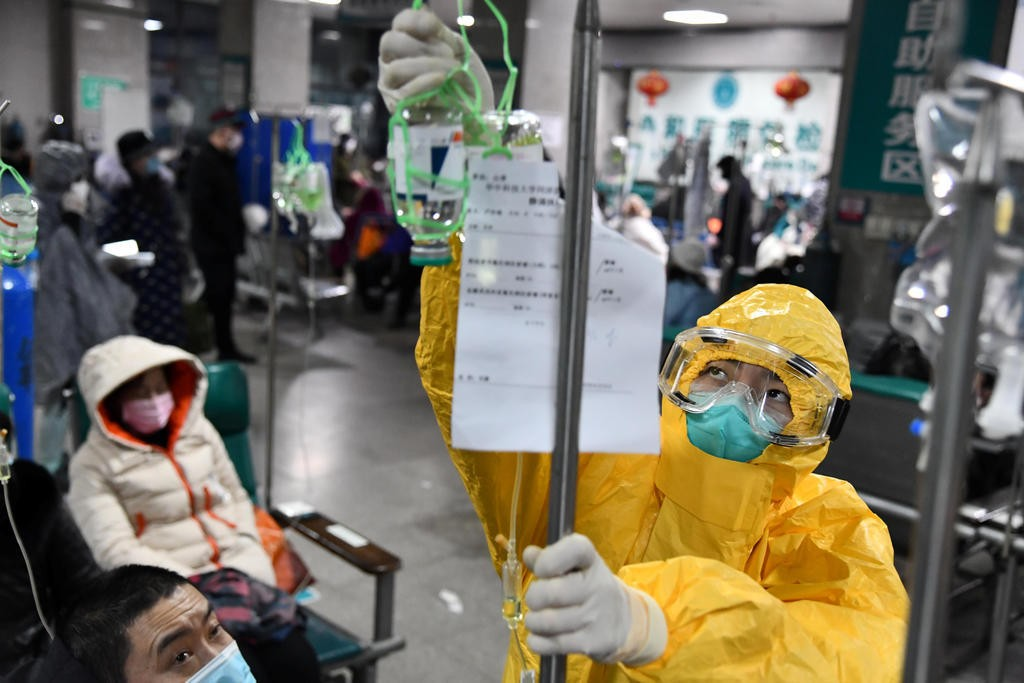Coverall: (415, 228, 908, 683)
Gloves: (515, 532, 669, 670), (374, 6, 503, 135)
Goggles: (655, 326, 831, 445)
with_mask: (683, 356, 795, 471), (137, 611, 257, 683), (118, 378, 173, 436)
